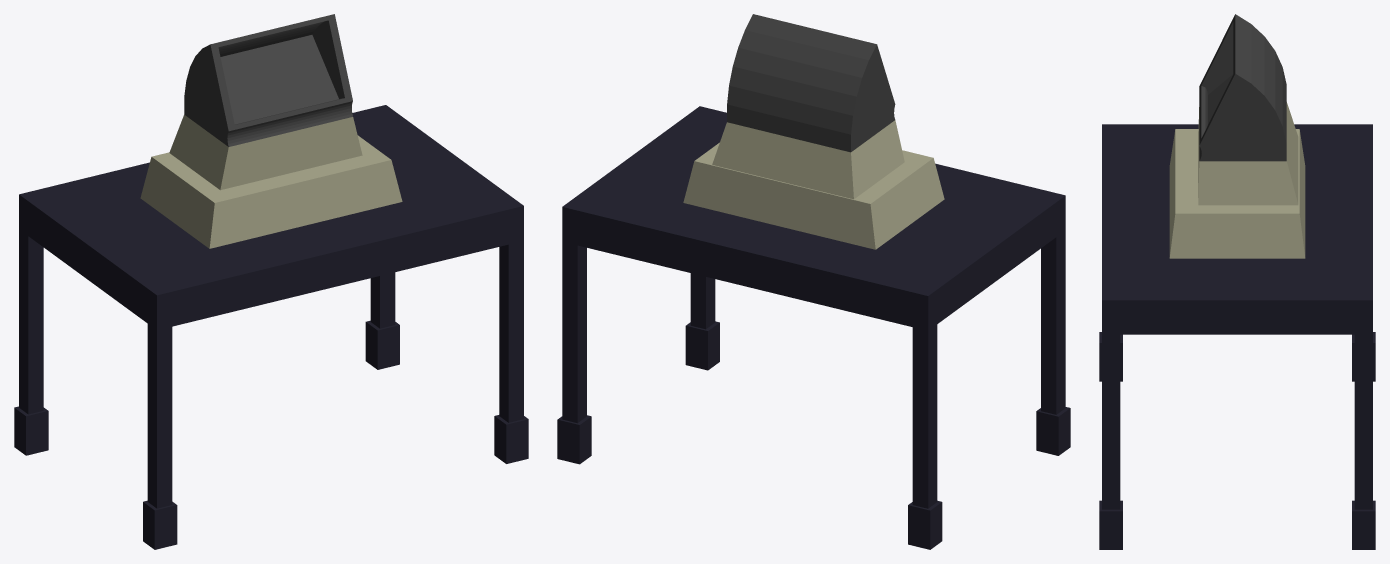
Rendered from projektor.fbx.
3 renders of one model, left to right at view 1: azimuth 30°, elevation 25°; view 2: azimuth 150°, elevation 25°; view 3: azimuth 270°, elevation 25°, orthographic.
Parts seen in each view (by area): view 1: Cube, Cube.001; view 2: Cube, Cube.001; view 3: Cube, Cube.001.
Part boxes in pixels (<box>): Cube: <box>14,105,528,549</box>; Cube.001: <box>140,14,402,248</box>; Cube: <box>557,106,1070,549</box>; Cube.001: <box>683,14,944,249</box>; Cube: <box>1099,124,1375,549</box>; Cube.001: <box>1169,14,1305,258</box>.
Size of the model in its own units: 359 by 390 by 234.
